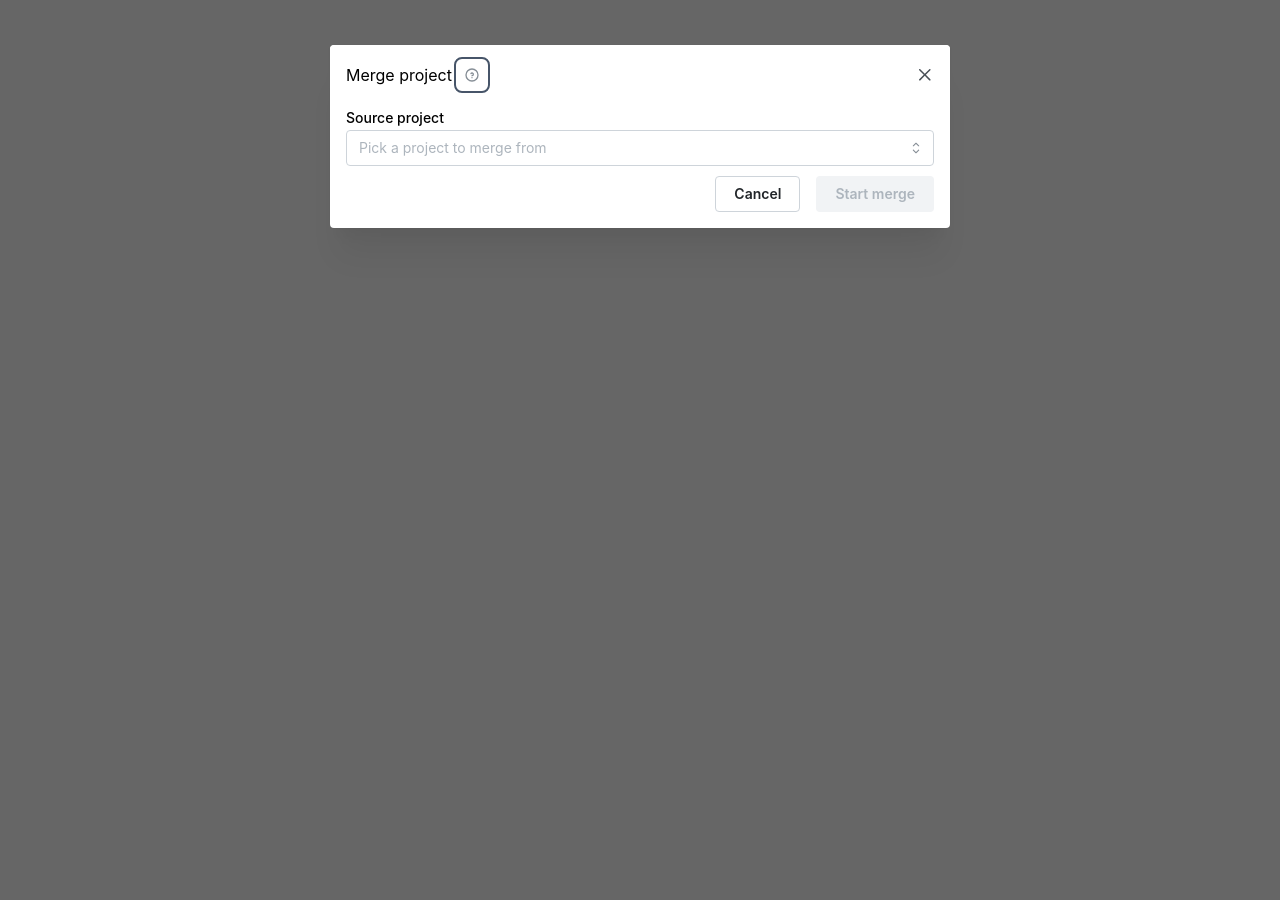
Test: the transaction Switch defaults OFF (locked) with the full-import hint for an all-NEW plan
The width and height of the screenshot is (1280, 900).
Click the field labelled "Source project". click: [640, 148]
box: 346,130 -> 934,166
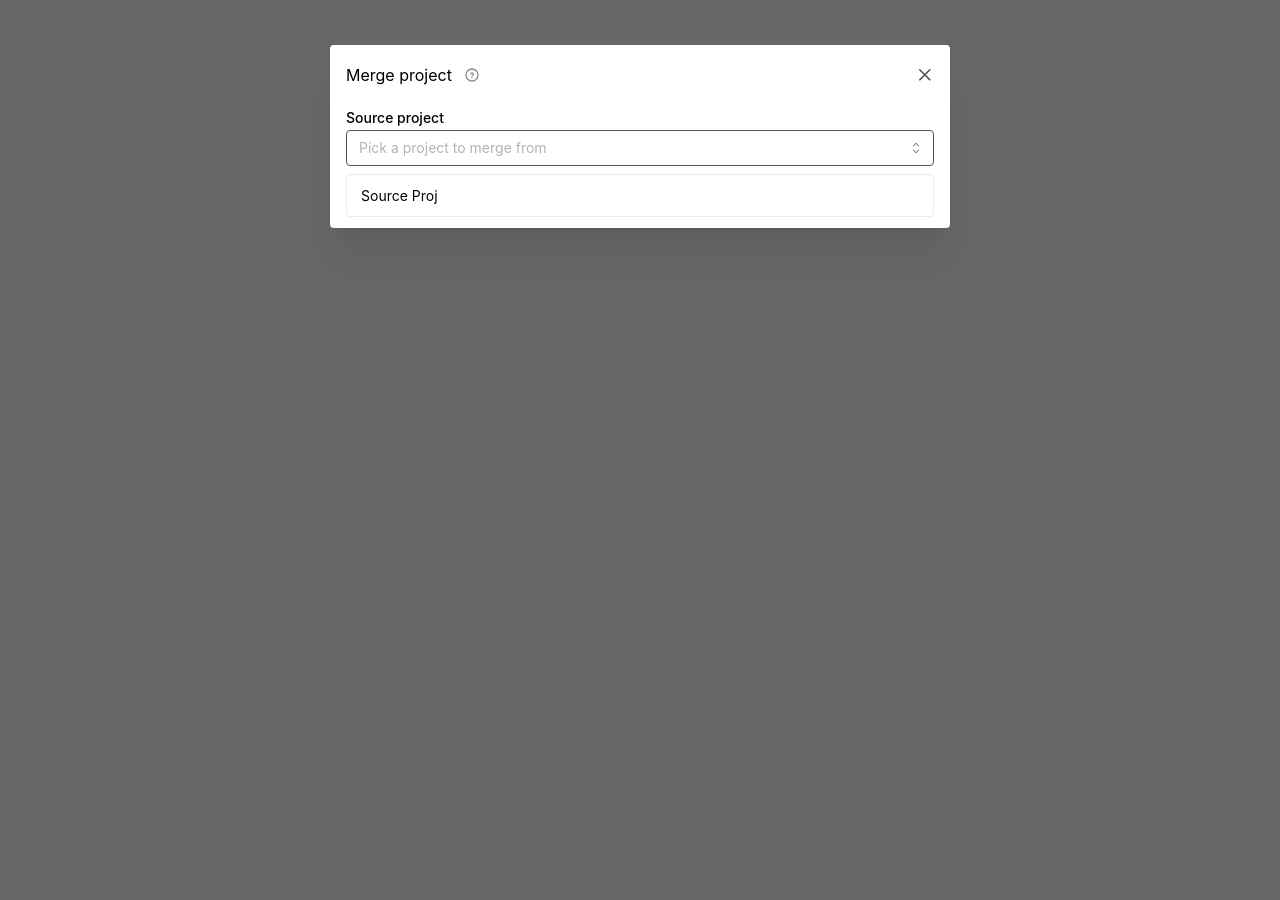
Click the option "Source Proj". click: [399, 195]
box: 361,187 -> 438,204
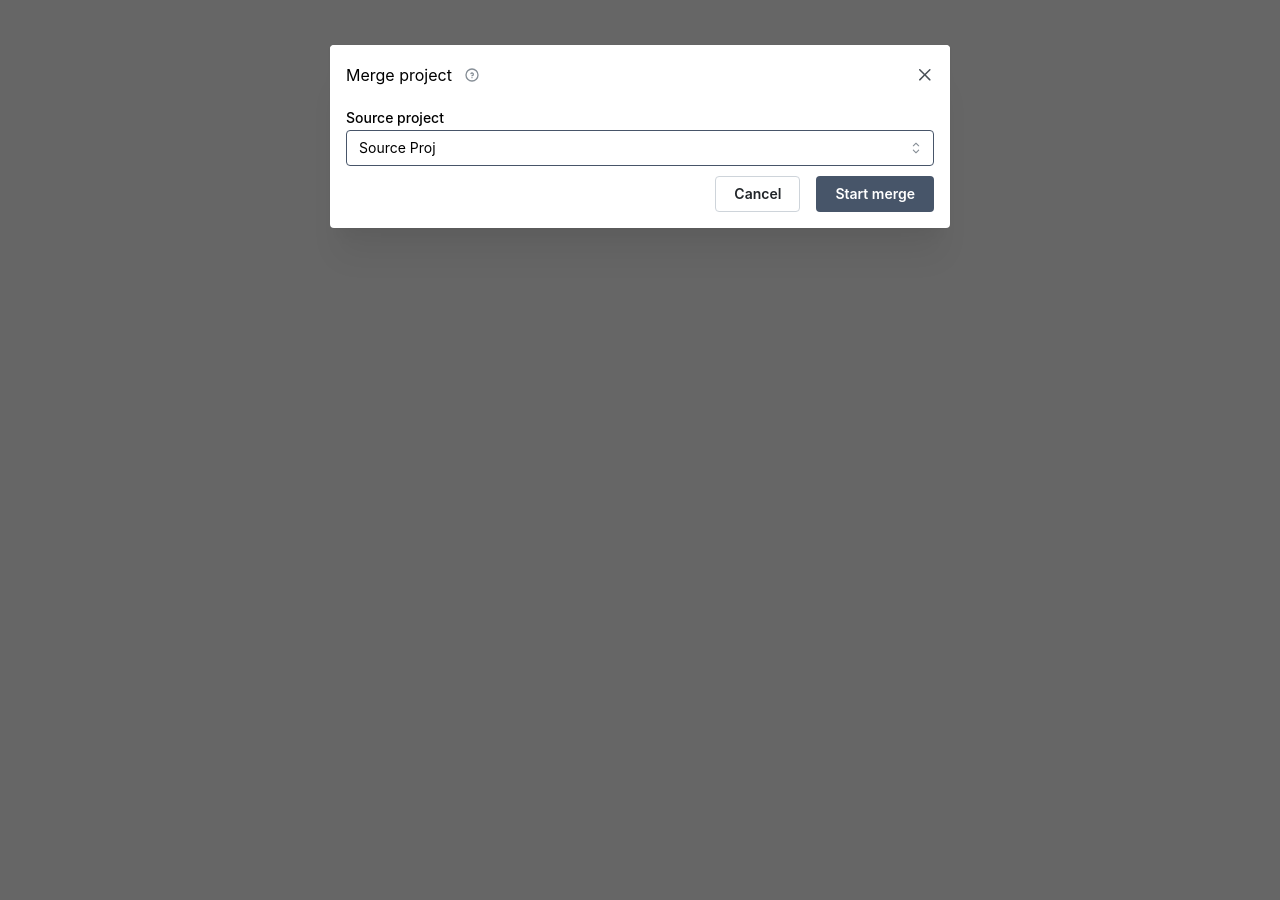
Click the button "Start merge". click: [875, 194]
box: 816,176 -> 934,212
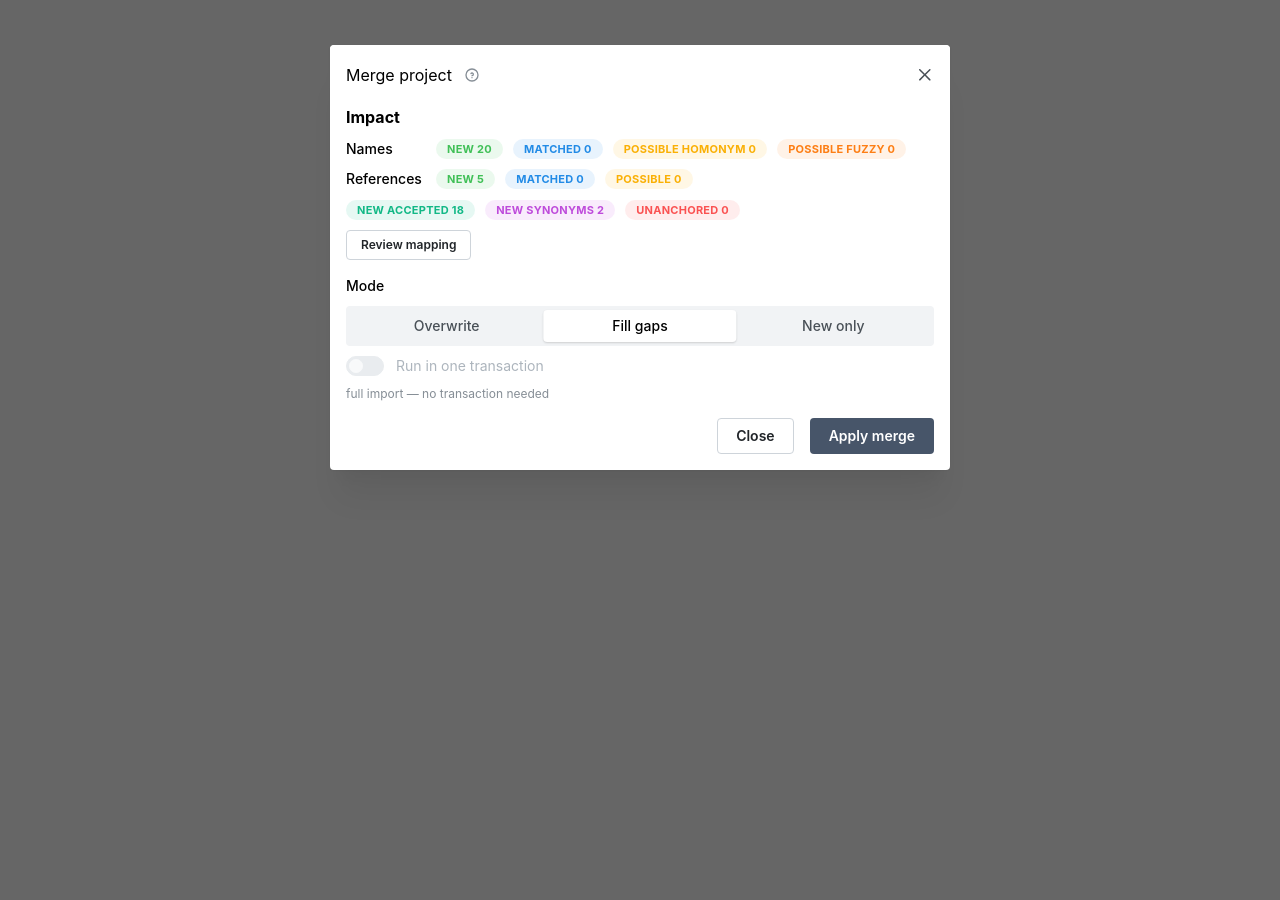
Result: the text "new 20" is shown at 447,140 -> 492,158
Result: the switch labelled "Run in one transaction" is not checked at 346,356 -> 544,376
Result: the switch labelled "Run in one transaction" is disabled at 346,356 -> 544,376
